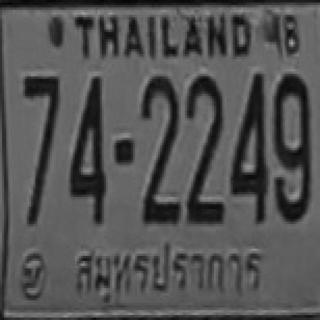N02: (186, 75, 224, 193), (185, 113, 225, 222), (141, 111, 179, 222)
N04: (228, 71, 266, 222), (69, 74, 104, 222), (228, 72, 266, 195), (68, 73, 105, 186)
N07: (23, 75, 58, 171), (23, 74, 58, 160)
N09: (272, 76, 310, 219), (272, 106, 310, 219)
P57: (67, 242, 268, 309)
